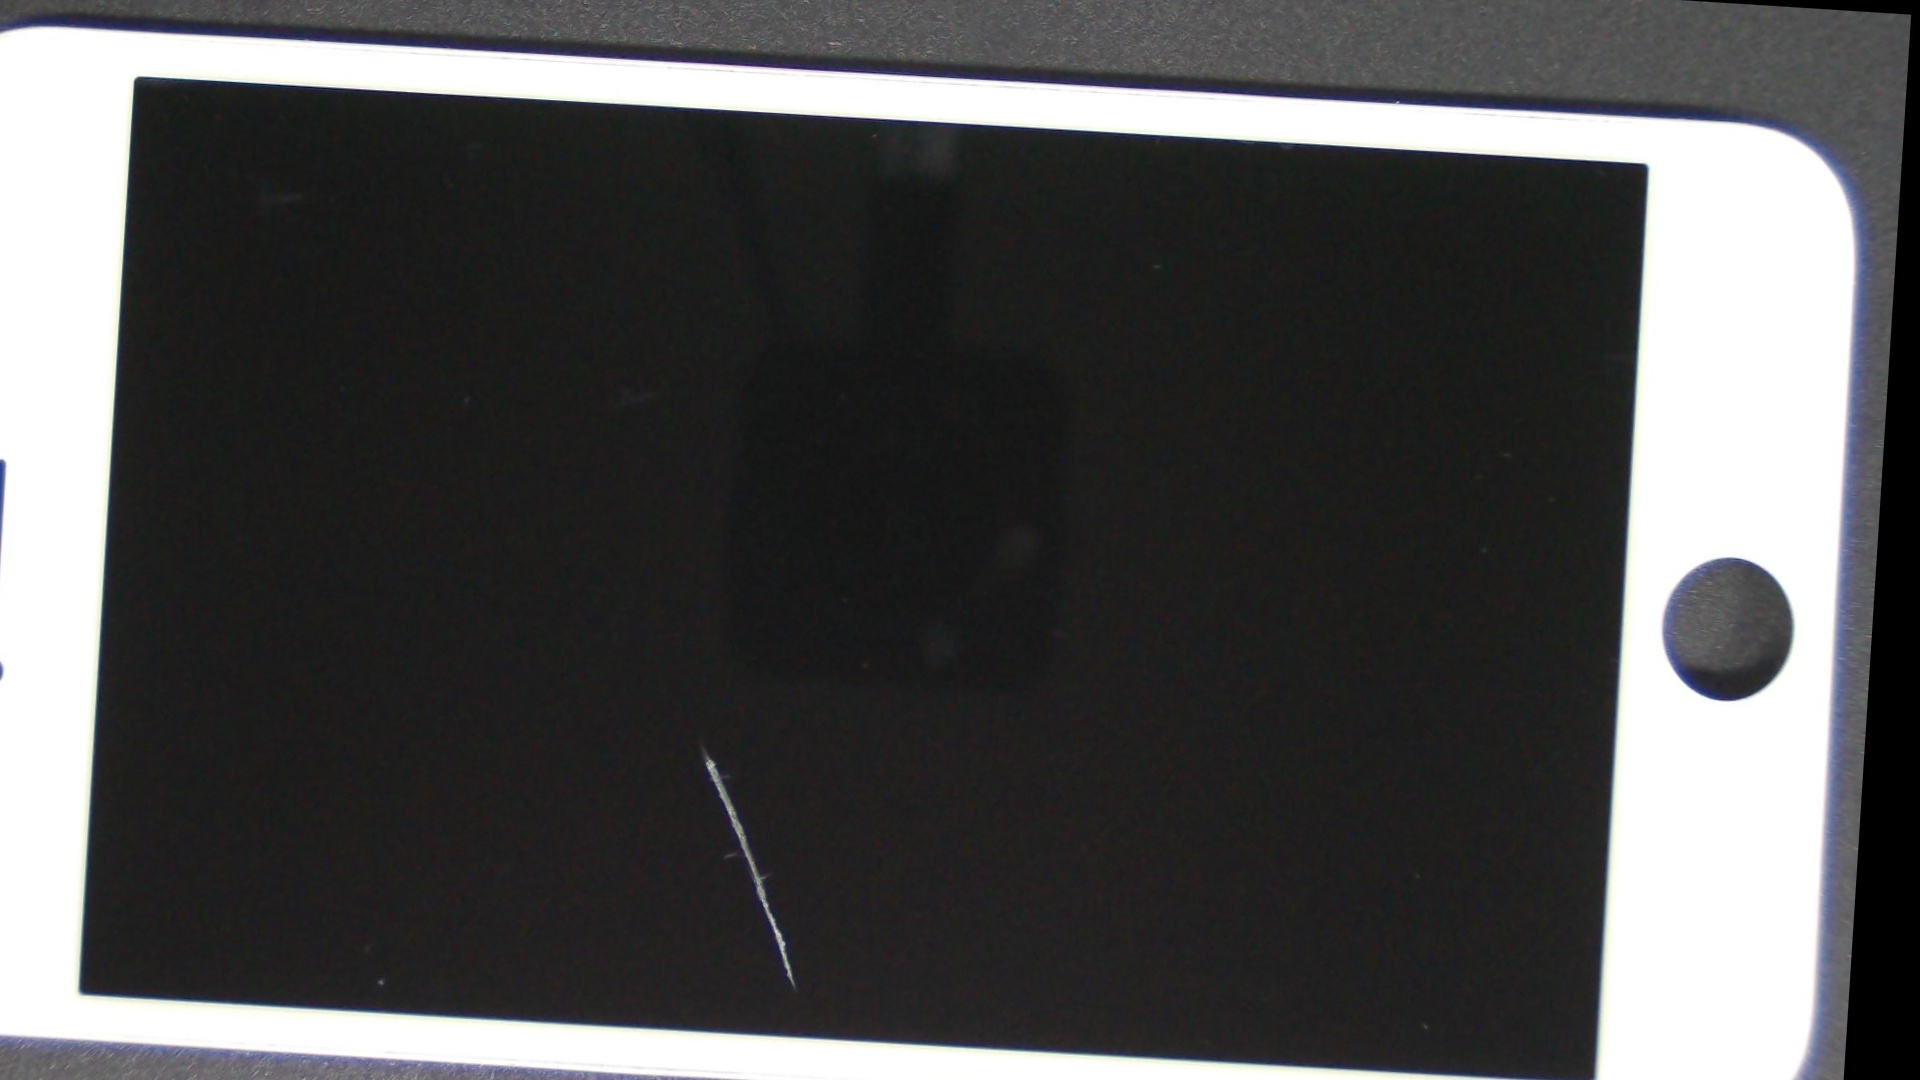oil: (253, 315, 1153, 1080)
